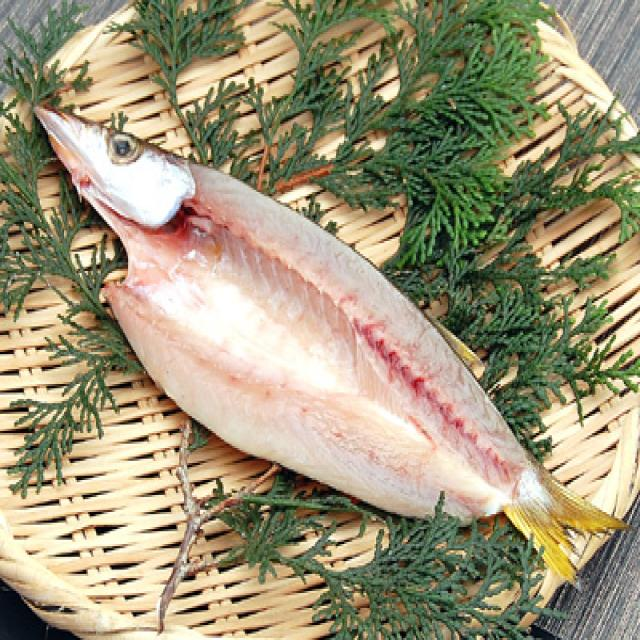熟制海鲜: (26, 96, 635, 589)
